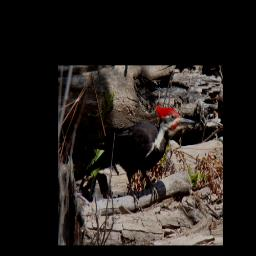Woodpecker: (75, 104, 197, 208)
